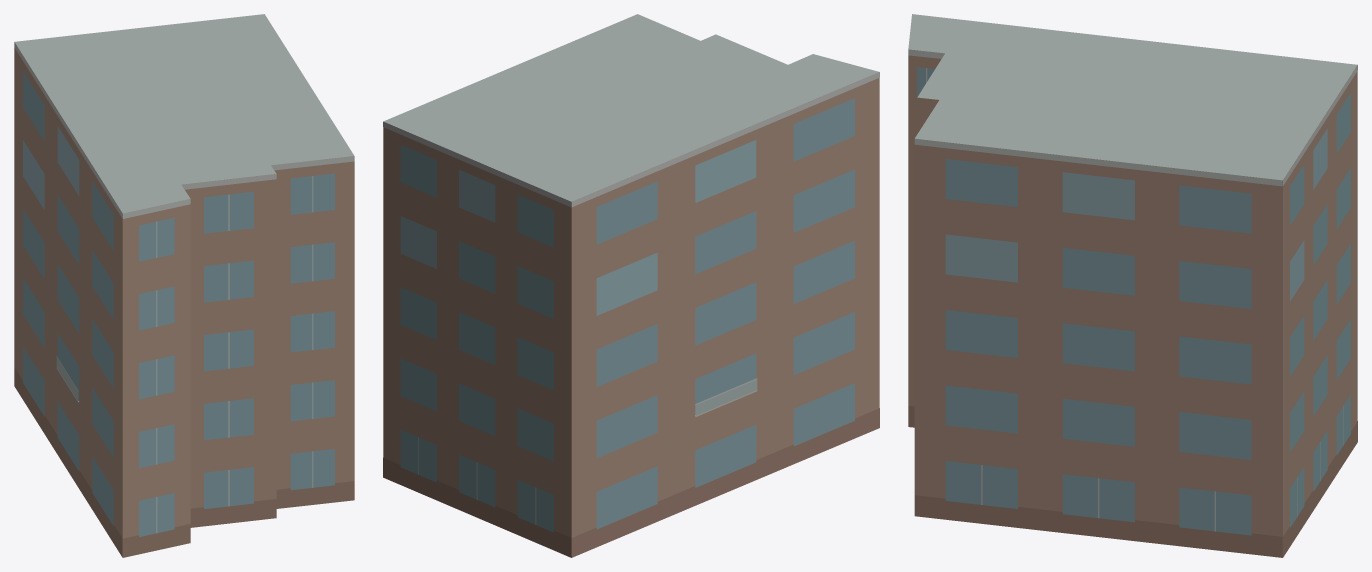
The model's file is survey-upis-32987600.glb.
The picture shows the model from 3 angles, left to right: view 1: azimuth 30°, elevation 25°; view 2: azimuth 150°, elevation 25°; view 3: azimuth 270°, elevation 25°; orthographic projection. The views are drawn at different scales.
Visible parts, largest first — view 1: survey-upis-32987600.tmp; view 2: survey-upis-32987600.tmp; view 3: survey-upis-32987600.tmp.
Boxes of the visible parts, <box> form: survey-upis-32987600.tmp: <box>14,14,354,557</box>; survey-upis-32987600.tmp: <box>383,14,879,557</box>; survey-upis-32987600.tmp: <box>908,14,1357,557</box>.
Size of the model in its own units: 14.57 by 15.4 by 16.63.
